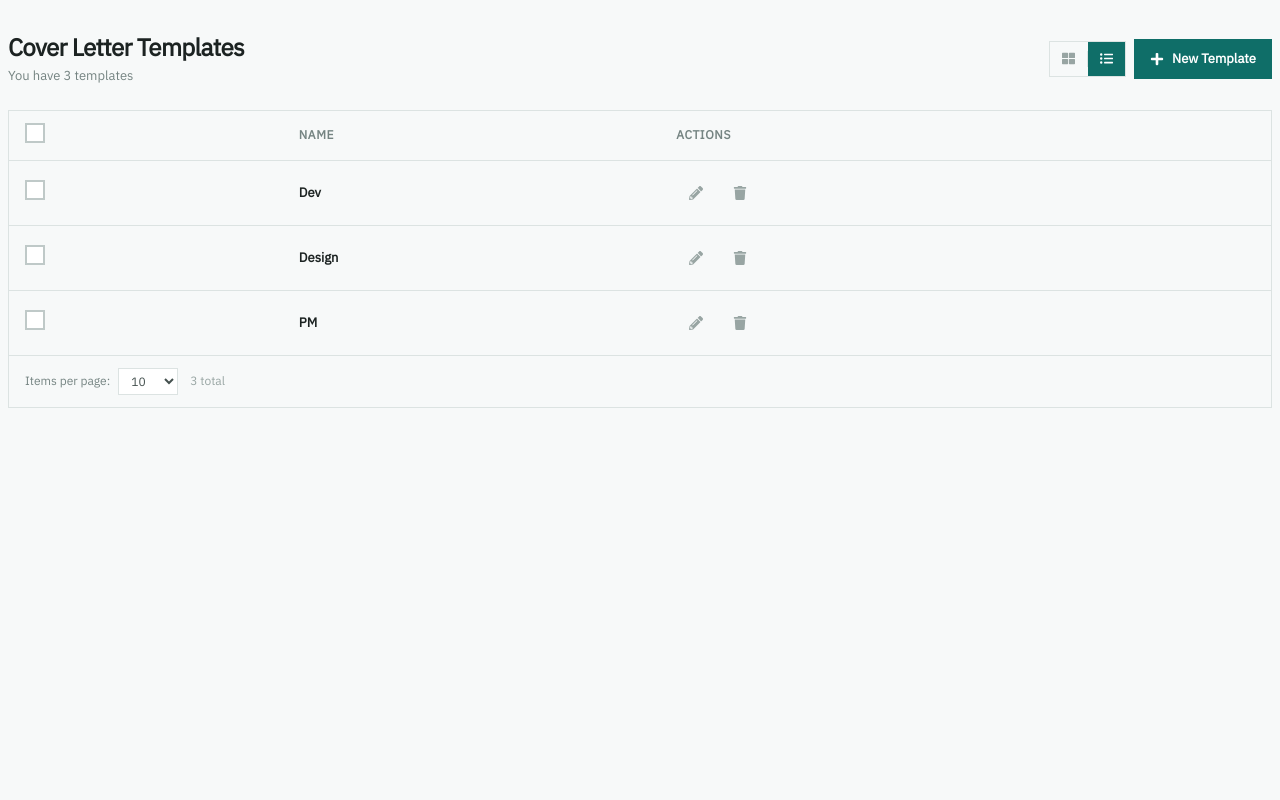
Test: TemplatesView — delete confirmation flows › sends a DELETE request and removes the row when confirmed
Expected: the text "Dev" is shown, [299,184,321,201]
What coordinates should you click on to do the following:
click the button titled "Delete Template" in the row of "Dev"
I would click on:
 (740, 192)
Its box is [720,172,760,212].
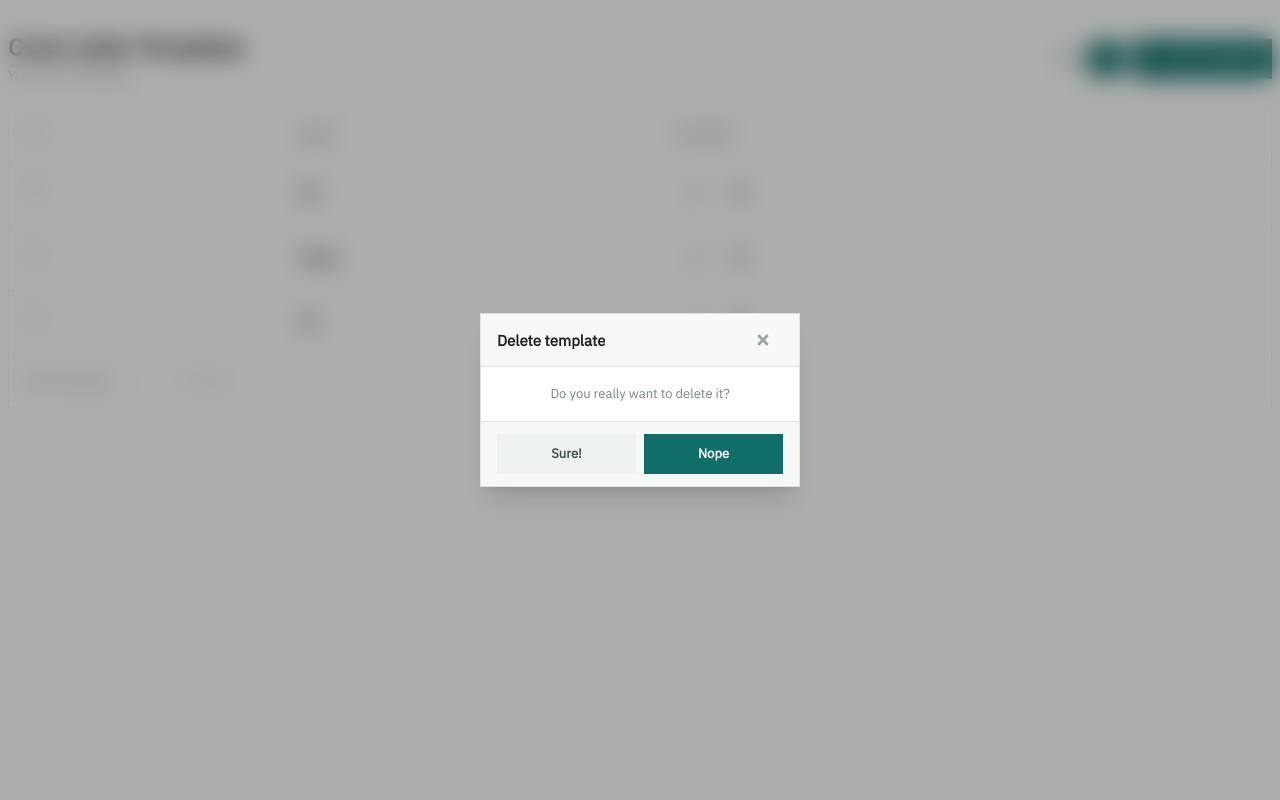
What coordinates should you click on to do the following:
click the button "Sure!"
I would click on:
 (566, 454)
Its box is [497,434,636,474].
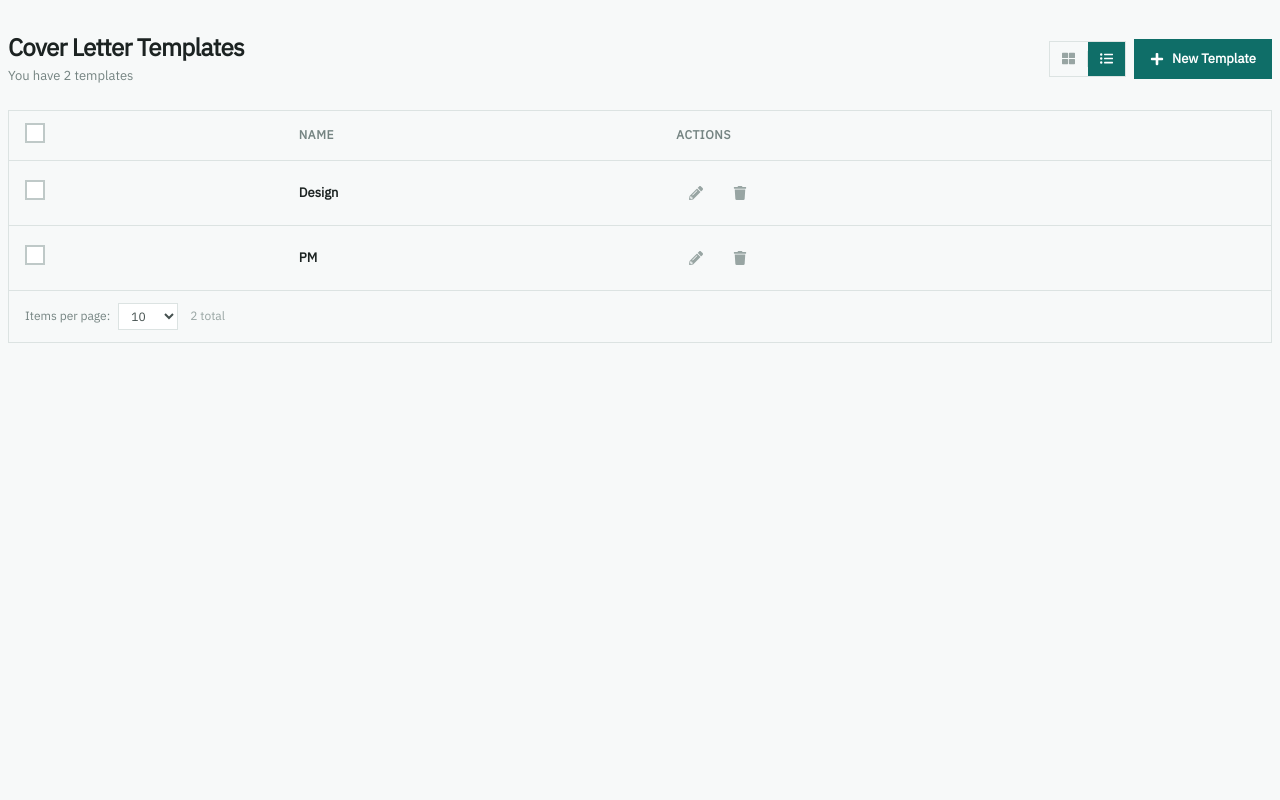
Result: the text "Dev" is gone
